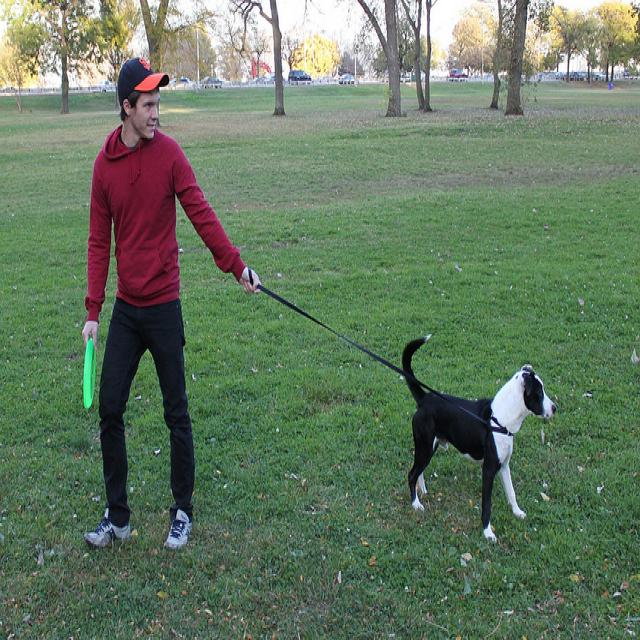Vehicle: (288, 70, 311, 86), (200, 76, 223, 90), (338, 74, 359, 84), (449, 68, 469, 78), (94, 80, 115, 86), (400, 75, 410, 82), (573, 71, 579, 82)
